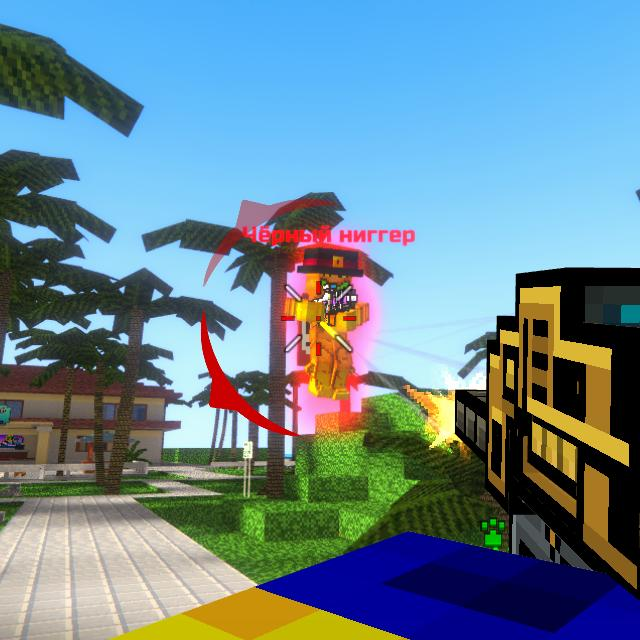Enemy: (286, 259, 372, 401)
